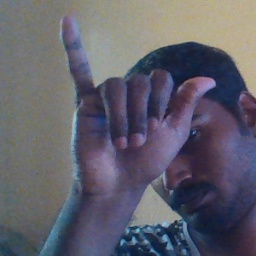J: (58, 15, 218, 187)
